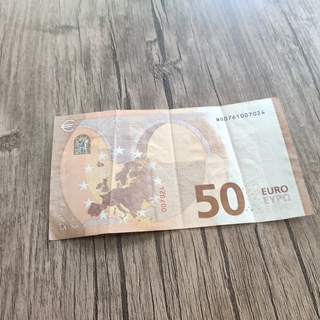50EUROBack: (47, 95, 316, 241)
